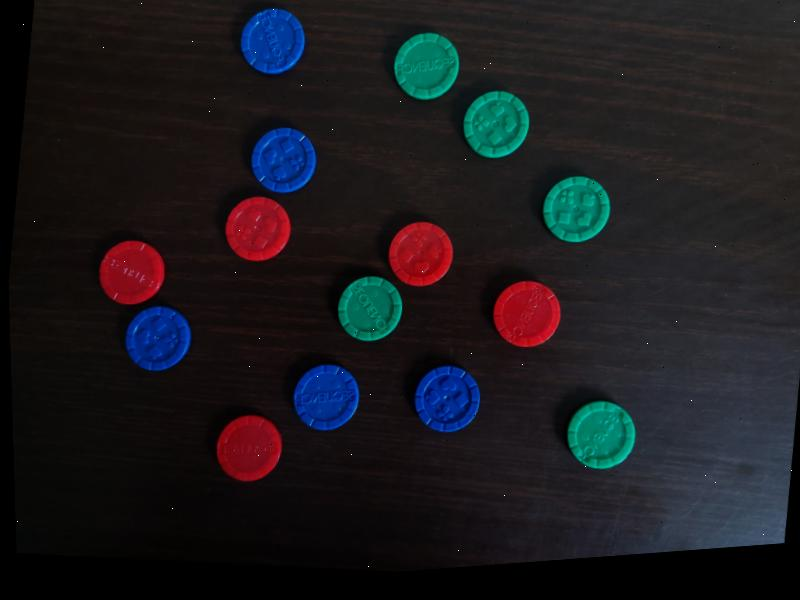Blue_Token: (113, 295, 202, 382), (228, 0, 317, 86), (283, 352, 368, 441), (241, 118, 327, 203), (404, 354, 488, 441)
Green_Token: (554, 390, 646, 480), (323, 263, 414, 353), (533, 163, 621, 252), (383, 22, 471, 110), (452, 79, 539, 167)
Red_Token: (480, 269, 569, 359), (213, 185, 302, 275), (203, 403, 290, 492), (378, 209, 463, 297), (91, 228, 172, 315)
